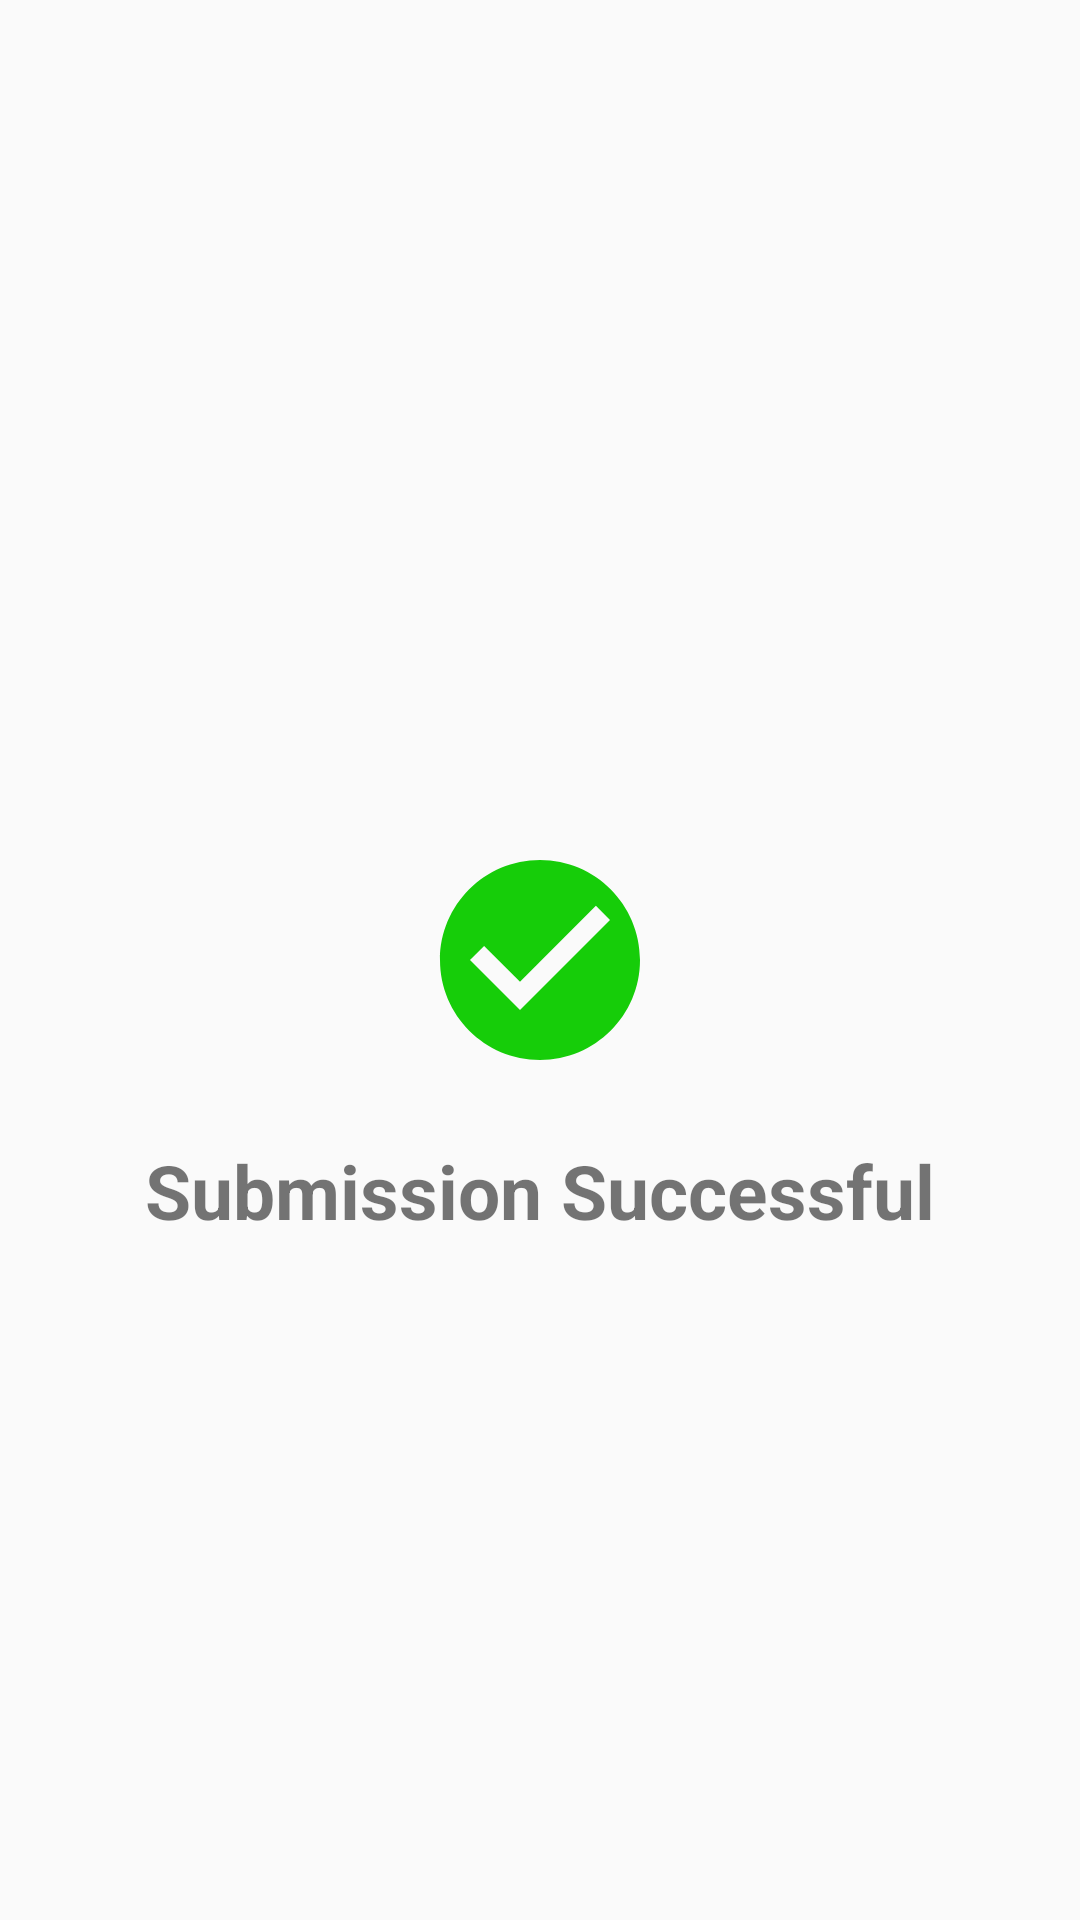

Icons on this 1080 x 1920 Android screen, each with its box as (x1, y1, x2, y2):
accepted: (439, 860, 640, 1060)
